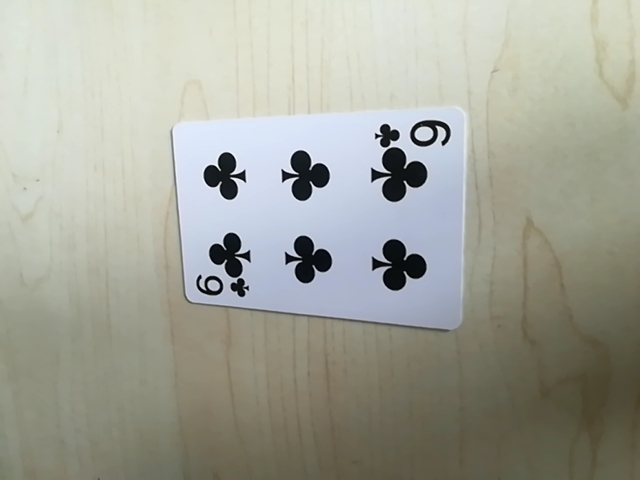mh 6: (374, 117, 453, 151), (189, 274, 250, 302)
